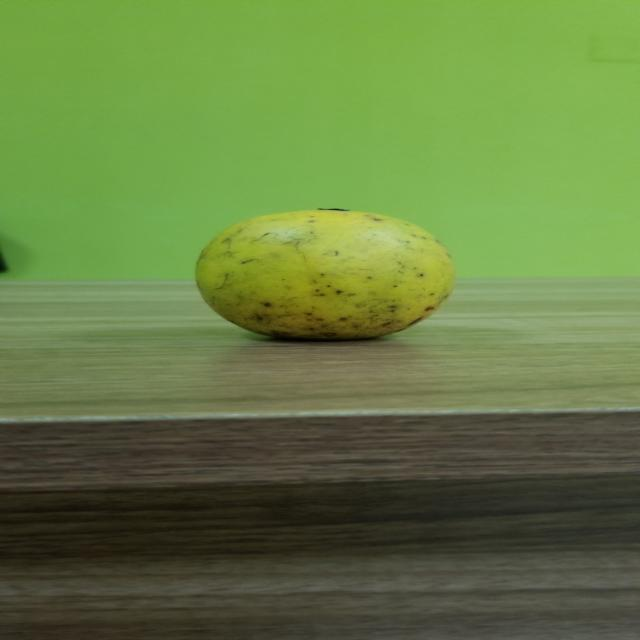Ripe orange: (183, 202, 473, 351)
